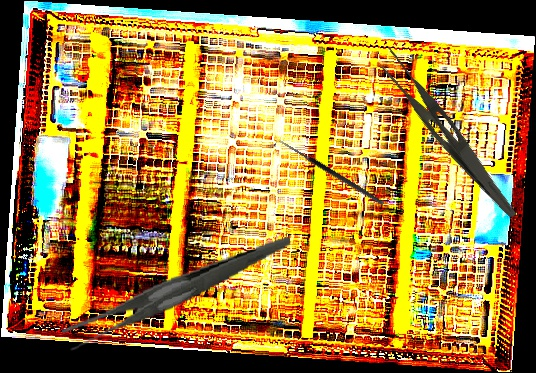Dressing Forceps: (366, 43, 535, 221), (54, 236, 300, 353)
Hook Surgical: (272, 136, 386, 212)
